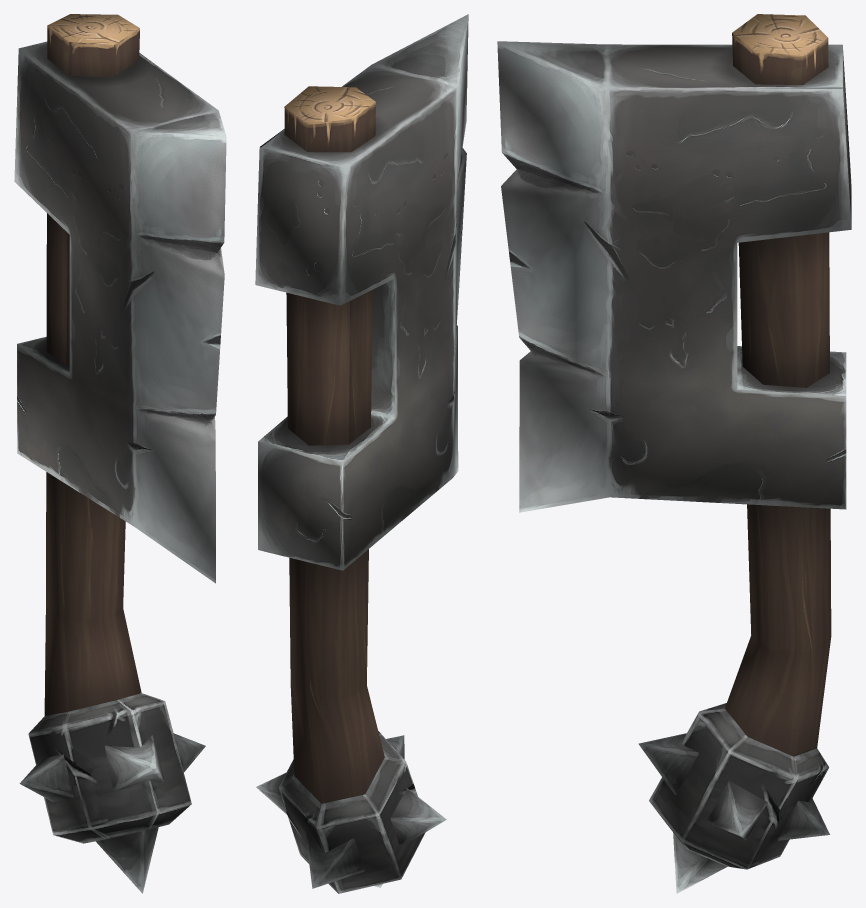
Rendered from weapon_axe_1h_0001.FBX.
3 views of the same model, side by side, from view 1: azimuth 30°, elevation 25°; view 2: azimuth 150°, elevation 25°; view 3: azimuth 270°, elevation 25° (orthographic). The views are drawn at different scales.
Parts seen in each view (by area): view 1: weapon_axe_1h_0001; view 2: weapon_axe_1h_0001; view 3: weapon_axe_1h_0001.
Boxes of the visible parts, x1,y1,x2,y2 form: weapon_axe_1h_0001: (14, 14, 226, 893); weapon_axe_1h_0001: (255, 14, 468, 893); weapon_axe_1h_0001: (497, 14, 851, 893).
Bounding box in the file's own units: 33.84 × 142 × 52.73.
Materials: 1 (1 with a texture image).
